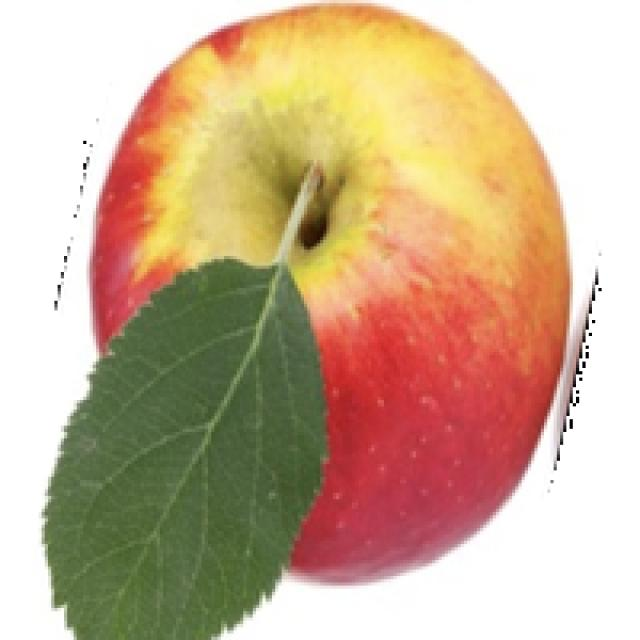apple: (35, 0, 602, 637)
